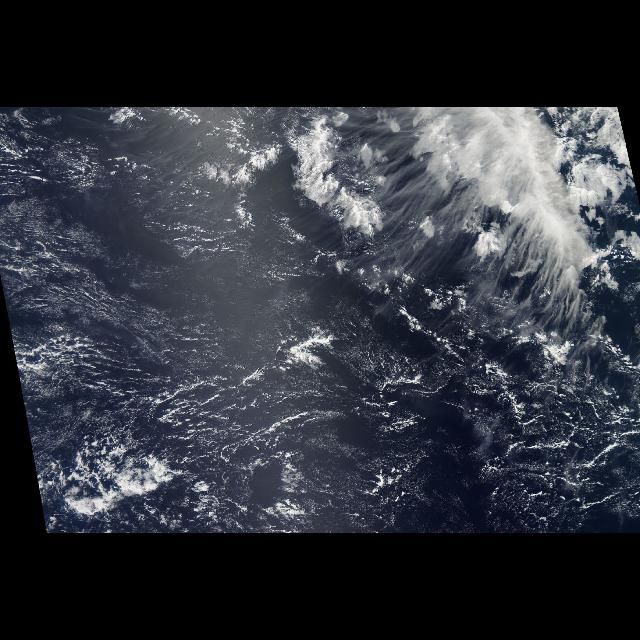Sugar: (0, 107, 478, 533)
